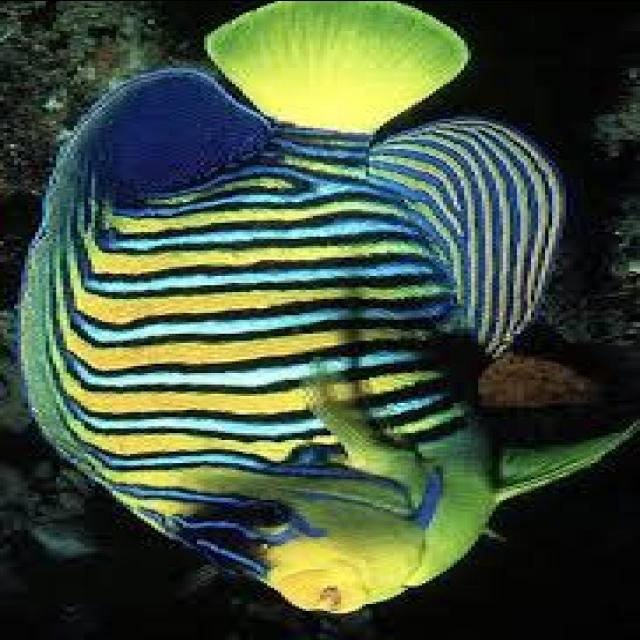AngelFish: (20, 2, 632, 613)
